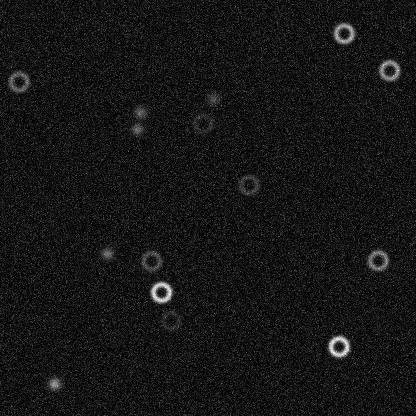Ring: (331, 21, 355, 45), (191, 111, 215, 135), (377, 58, 401, 82), (158, 308, 182, 332), (236, 172, 260, 196), (326, 334, 350, 358), (6, 69, 30, 93), (149, 280, 173, 304), (139, 248, 163, 272), (365, 248, 389, 272)
Spot: (98, 245, 114, 261), (204, 90, 220, 106), (46, 375, 62, 391), (129, 121, 145, 137), (132, 104, 148, 120)
